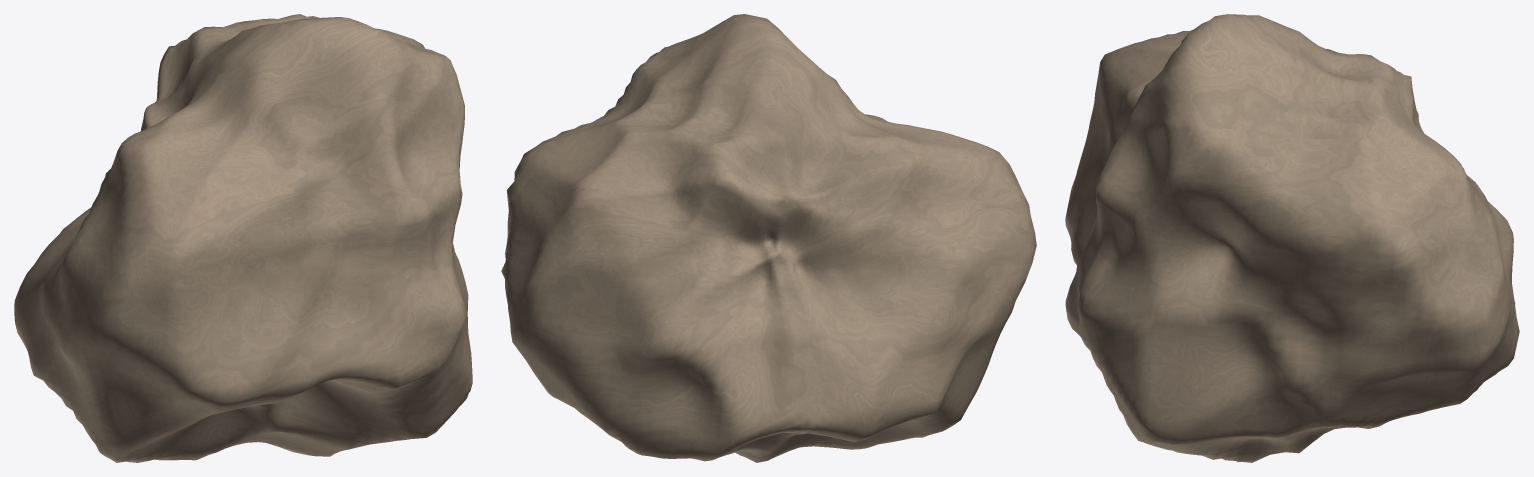
Rendered from boulder3.fbx.
3 views of the same model, side by side, from view 1: azimuth 30°, elevation 25°; view 2: azimuth 150°, elevation 25°; view 3: azimuth 270°, elevation 25° (orthographic). The views are drawn at different scales.
Parts seen in each view (by area): view 1: cube.sphere.32; view 2: cube.sphere.32; view 3: cube.sphere.32.
Part boxes in pixels (box(x1,y1,x2,y2)): cube.sphere.32: box(14, 14, 472, 462); cube.sphere.32: box(501, 14, 1036, 462); cube.sphere.32: box(1065, 14, 1519, 462).
Bounding box in the file's own units: 127 × 123 × 116.
